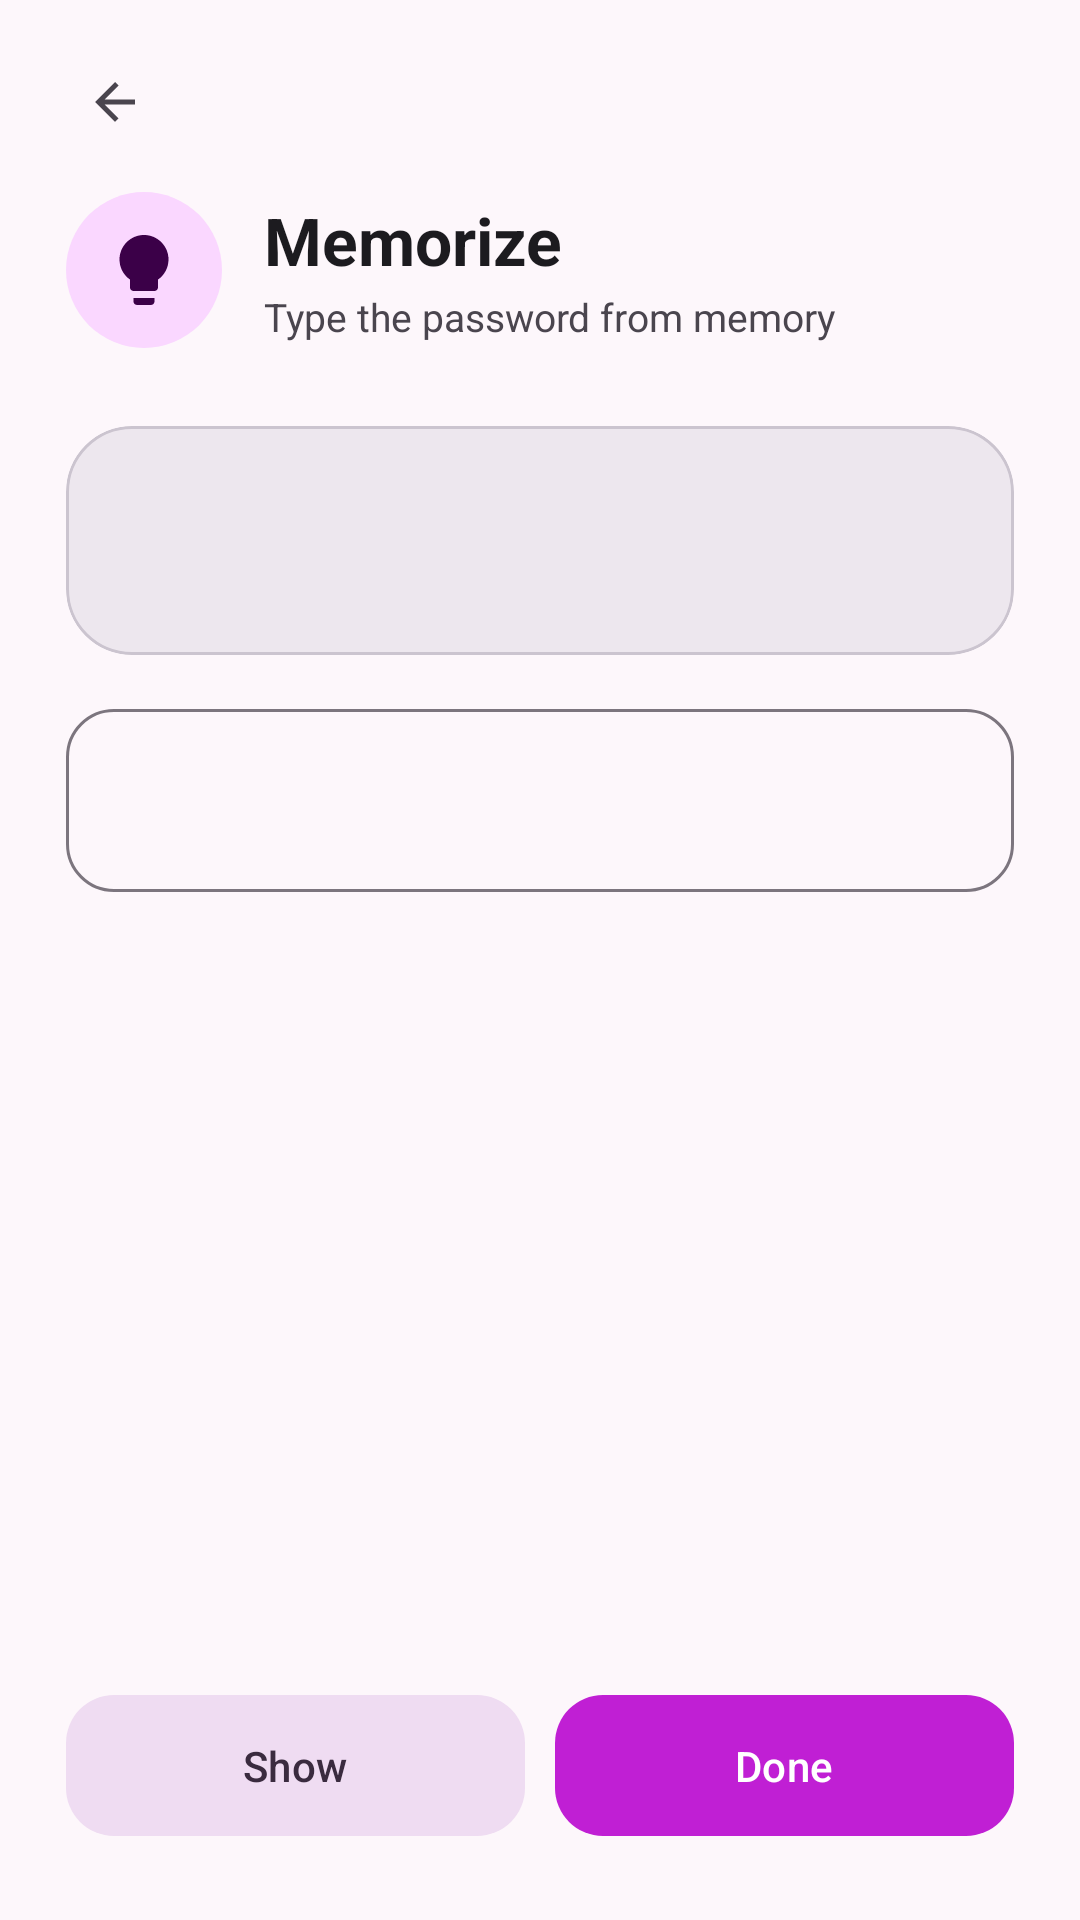

Where icons sit on this 1080px x 1920px app screen, as (x1, y1, x2, y2):
arrow back: (95, 82, 135, 122)
